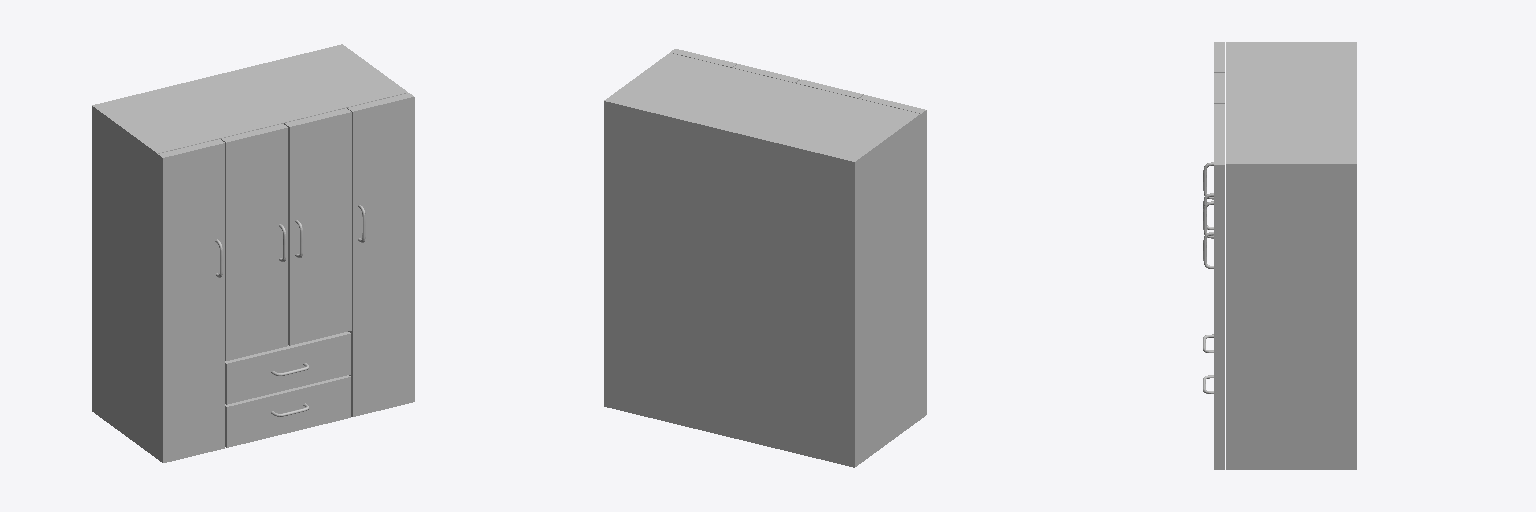
File: cupboard.obj
3 renders of one model, left to right at view 1: azimuth 30°, elevation 25°; view 2: azimuth 150°, elevation 25°; view 3: azimuth 270°, elevation 25°, orthographic.
Visible parts, largest first — view 1: body_Cube, Door.l_Cube.001, door.r_Cube.008, inner-door.r_Cube.007, inner-door.l_Cube.006, lower-door-top_Cube.009, lower-door-bottom_Cube.010; view 2: body_Cube, Door.l_Cube.001; view 3: body_Cube, door.r_Cube.008.
Part boxes in pixels (bbox=[...]): body_Cube: bbox=[92, 44, 407, 458]; Door.l_Cube.001: bbox=[158, 139, 224, 462]; door.r_Cube.008: bbox=[347, 93, 414, 416]; inner-door.r_Cube.007: bbox=[284, 108, 351, 345]; inner-door.l_Cube.006: bbox=[221, 124, 287, 360]; lower-door-top_Cube.009: bbox=[225, 332, 350, 404]; lower-door-bottom_Cube.010: bbox=[225, 375, 350, 447]; body_Cube: bbox=[604, 53, 920, 467]; Door.l_Cube.001: bbox=[859, 95, 926, 418]; body_Cube: bbox=[1226, 42, 1356, 469]; door.r_Cube.008: bbox=[1214, 134, 1224, 469].
Bounding box in the file's own units: 4.41 × 5.12 × 2.35.